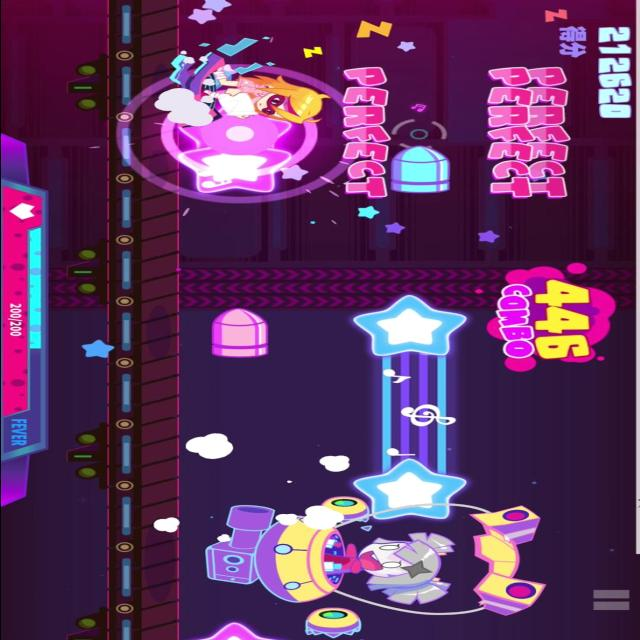hold: (354, 298, 480, 520)
jian: (205, 306, 273, 361), (383, 147, 455, 195)
qiangboss: (196, 494, 554, 640)
